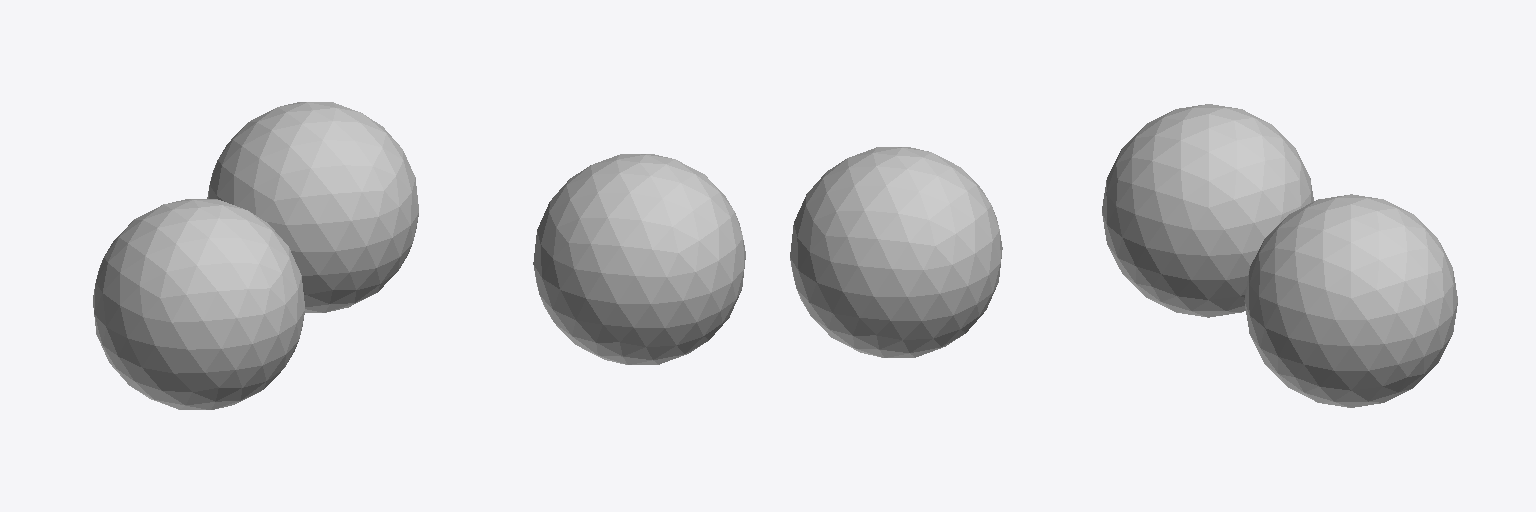
File: eyalSpheres3.obj
3 renders of one model, left to right at view 1: azimuth 30°, elevation 25°; view 2: azimuth 150°, elevation 25°; view 3: azimuth 270°, elevation 25°, orthographic.
Visible parts, largest first — view 1: icoshpere32_Icosphere.007, icoshpere31_Icosphere.006; view 2: icoshpere31_Icosphere.006, icoshpere32_Icosphere.007; view 3: icoshpere31_Icosphere.006, icoshpere32_Icosphere.007.
Boxes of the visible parts, <box> form: icoshpere32_Icosphere.007: <box>93,199,304,409</box>; icoshpere31_Icosphere.006: <box>207,102,418,312</box>; icoshpere31_Icosphere.006: <box>533,154,745,364</box>; icoshpere32_Icosphere.007: <box>790,147,1002,357</box>; icoshpere31_Icosphere.006: <box>1244,194,1457,407</box>; icoshpere32_Icosphere.007: <box>1102,104,1313,317</box>.
Size of the model in its own units: 1.2 by 0.6 by 1.